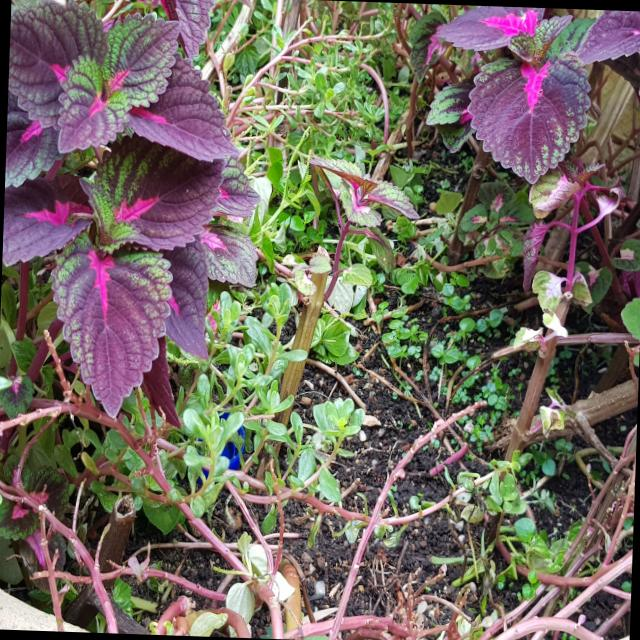Coleus: (0, 0, 237, 388), (422, 3, 640, 180)
